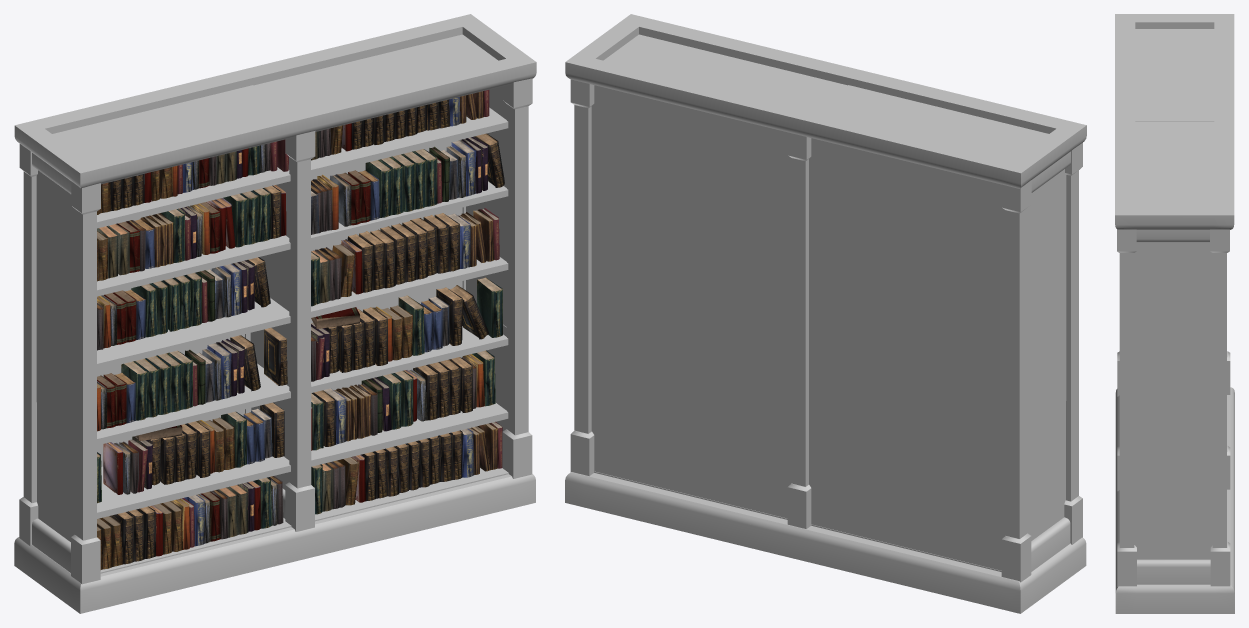
Rendered from BookCase01.fbx.
3 renders of one model, left to right at view 1: azimuth 30°, elevation 25°; view 2: azimuth 150°, elevation 25°; view 3: azimuth 270°, elevation 25°, orthographic. The views are drawn at different scales.
Parts seen in each view (by area): view 1: Bookcase_06, Book_01_11; view 2: Bookcase_06; view 3: Bookcase_06.
Part boxes in pixels (x1,y1,x2,y2): Bookcase_06: (14,14,536,613); Book_01_11: (97,90,504,569); Bookcase_06: (565,14,1086,613); Bookcase_06: (1115,14,1234,613).
Size of the model in its own units: 272 by 251 by 68.35.
